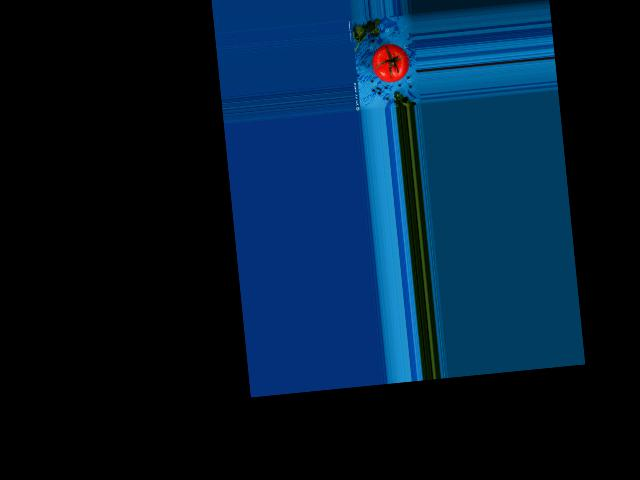tomato: (370, 41, 410, 83)
